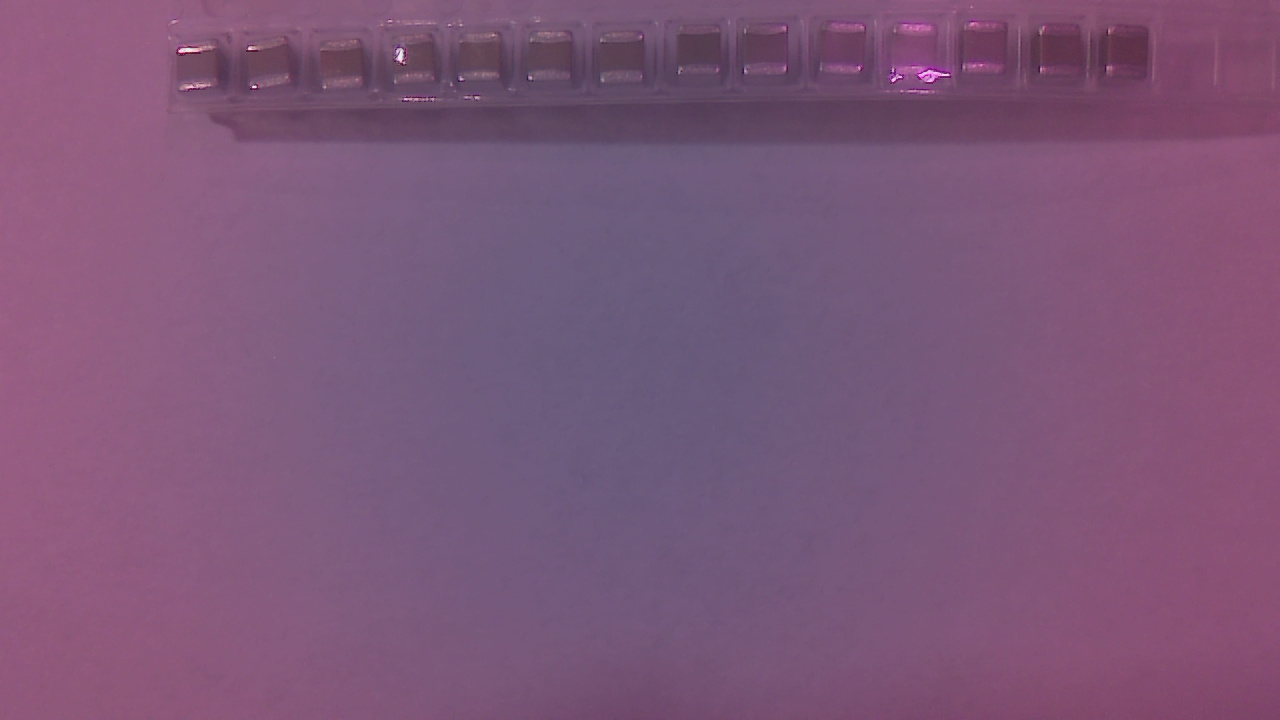Condensator: (249, 38, 301, 98), (896, 20, 945, 82), (394, 33, 443, 93), (746, 23, 794, 84), (969, 24, 1017, 83), (321, 40, 369, 98), (601, 36, 650, 92), (531, 34, 579, 91), (824, 22, 869, 81), (680, 27, 726, 83), (182, 43, 225, 100), (459, 39, 505, 90), (1045, 29, 1086, 85), (1107, 31, 1149, 84)
